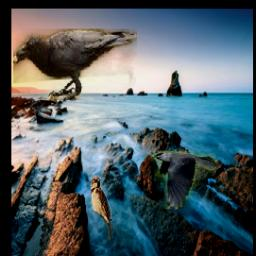Crow: (14, 30, 138, 101), (150, 152, 216, 210)
Swallow: (91, 176, 112, 241)
